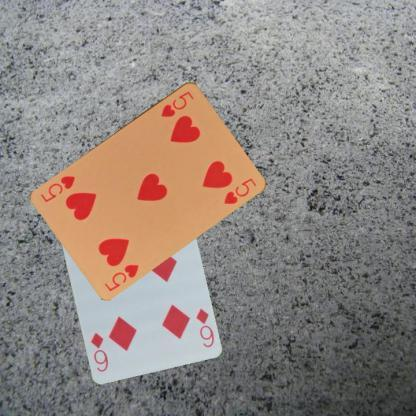5h: (102, 262, 140, 292), (158, 89, 196, 118)
6d: (193, 306, 215, 348)
